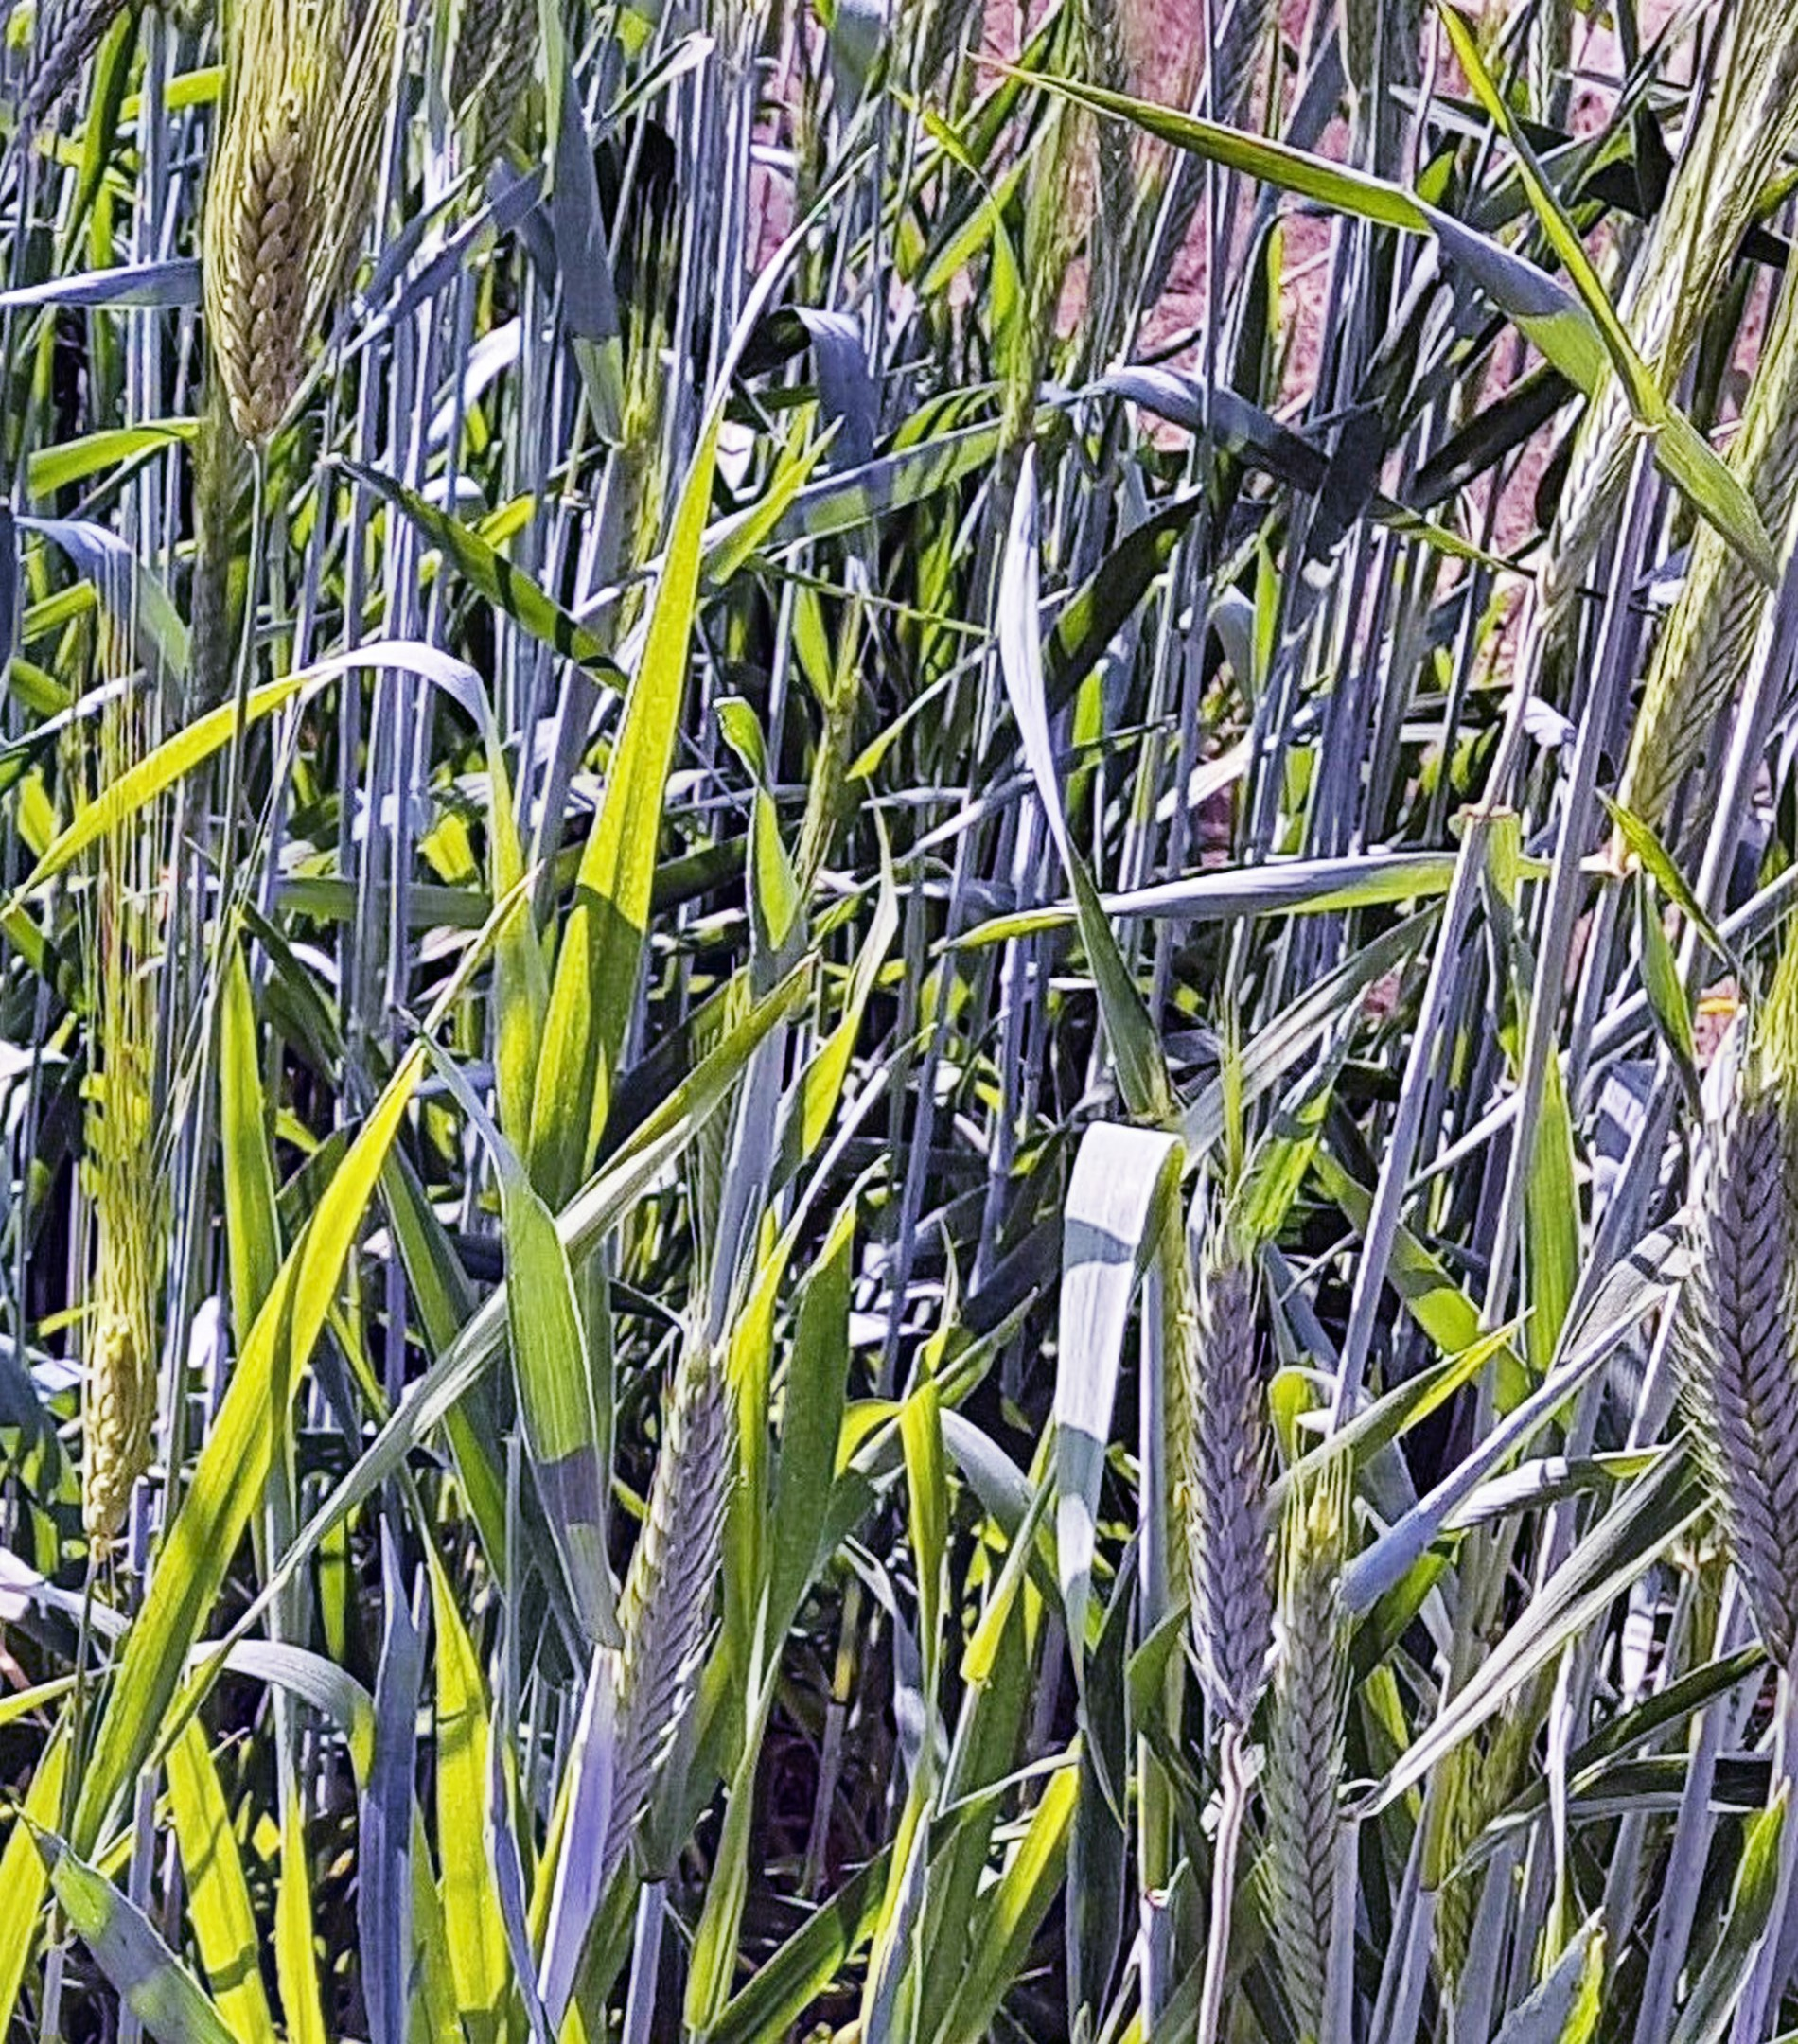Healthy Wheat: (1174, 1253, 1292, 1717), (195, 103, 337, 441)
